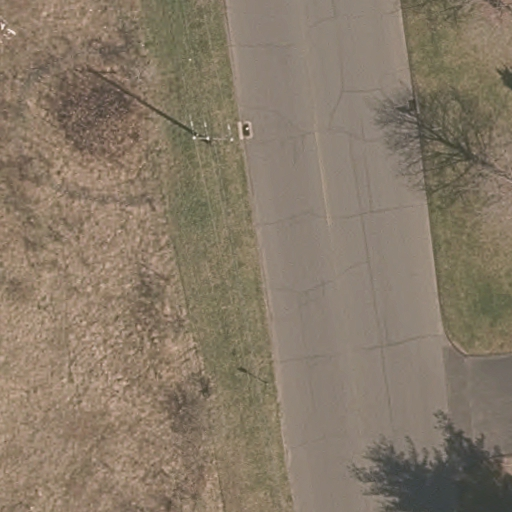DT: (183, 110, 237, 153)
